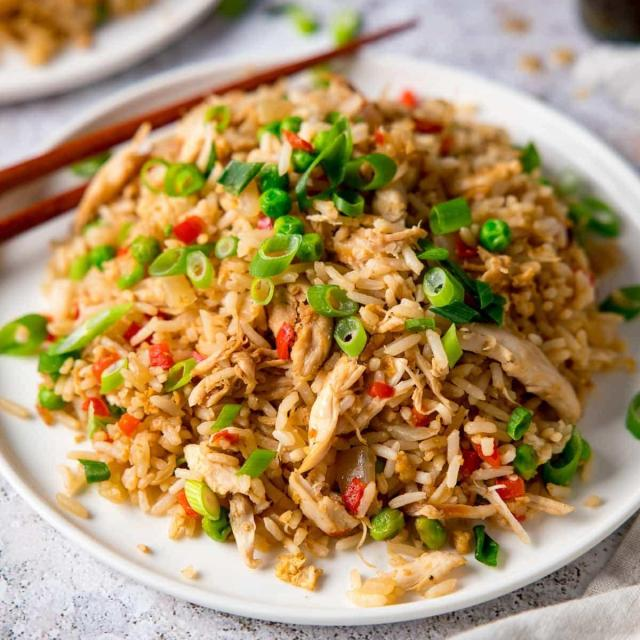Nasi Goreng: (11, 73, 628, 604)
